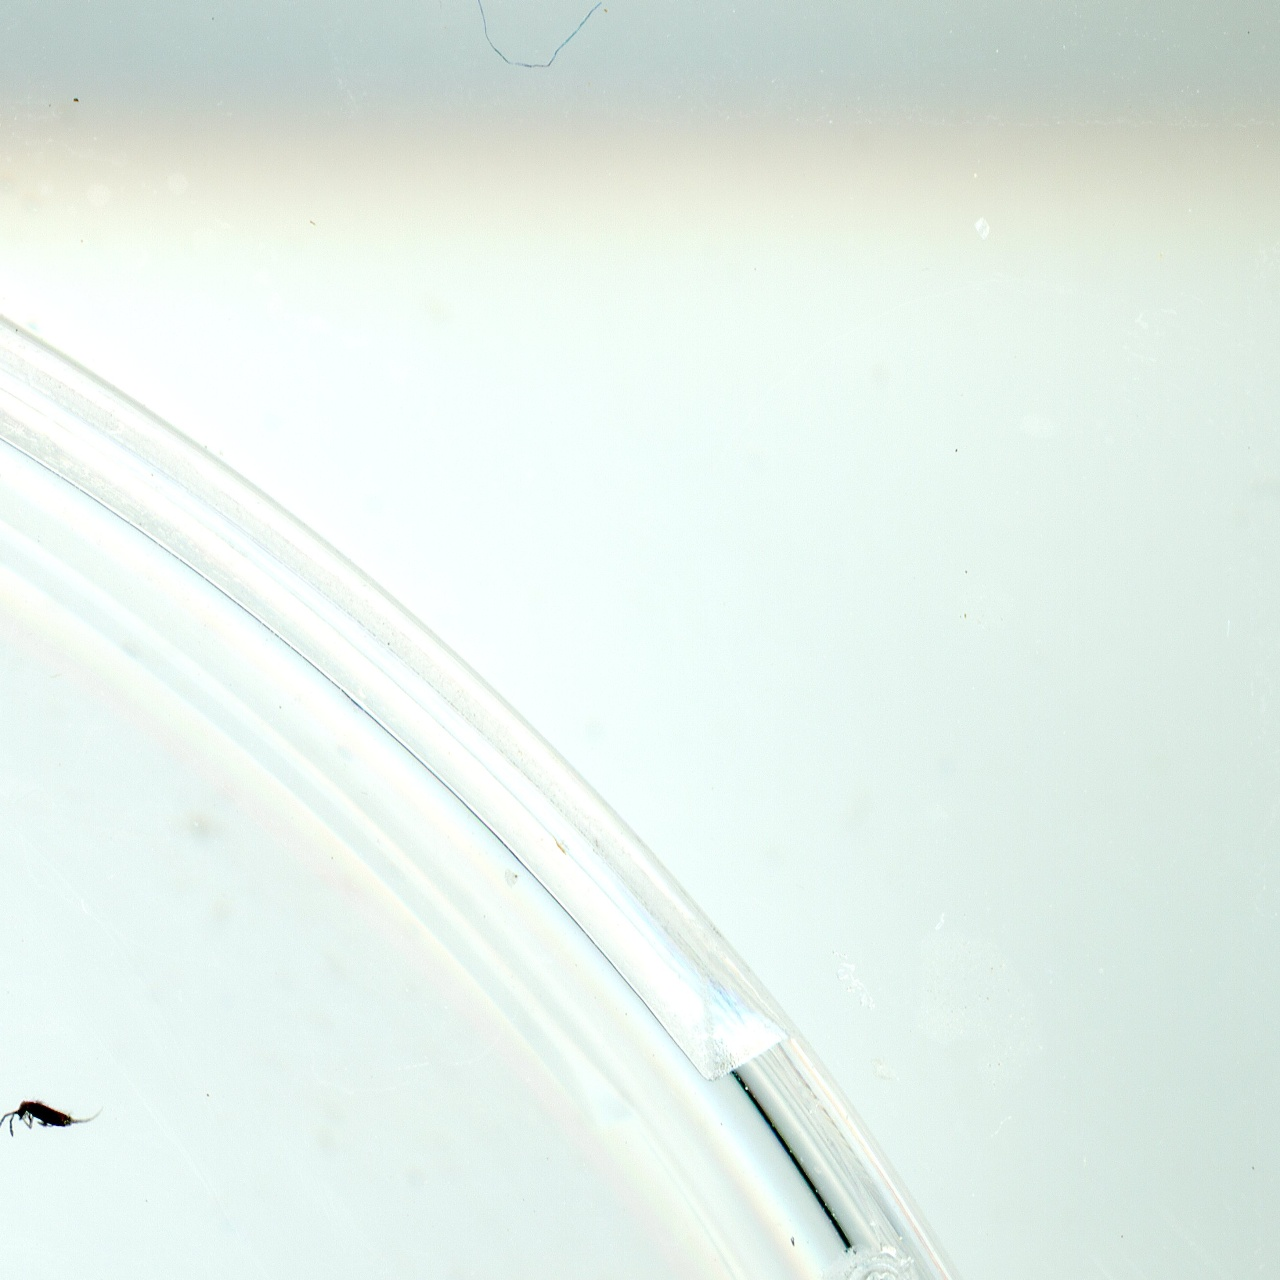arthropod: (0, 1089, 111, 1142)
